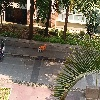fire: (39, 43, 47, 50)
